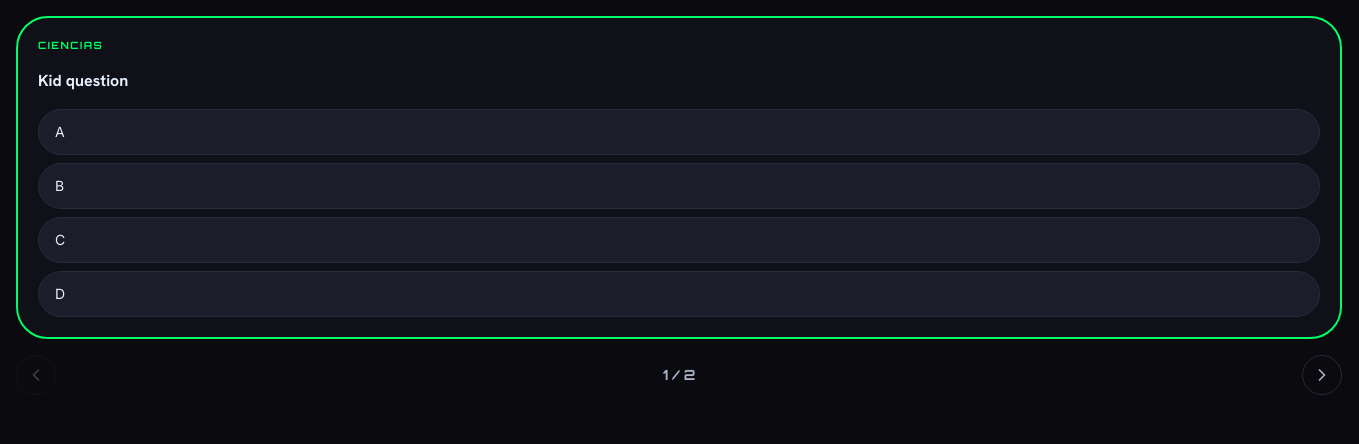
Test: QuestionCardBrowser — interactive practice (Repaso) › resets the pick when navigating to another card
Click the button with test id "card-option-2".
click(60, 240)  # box [38,217,1320,263]
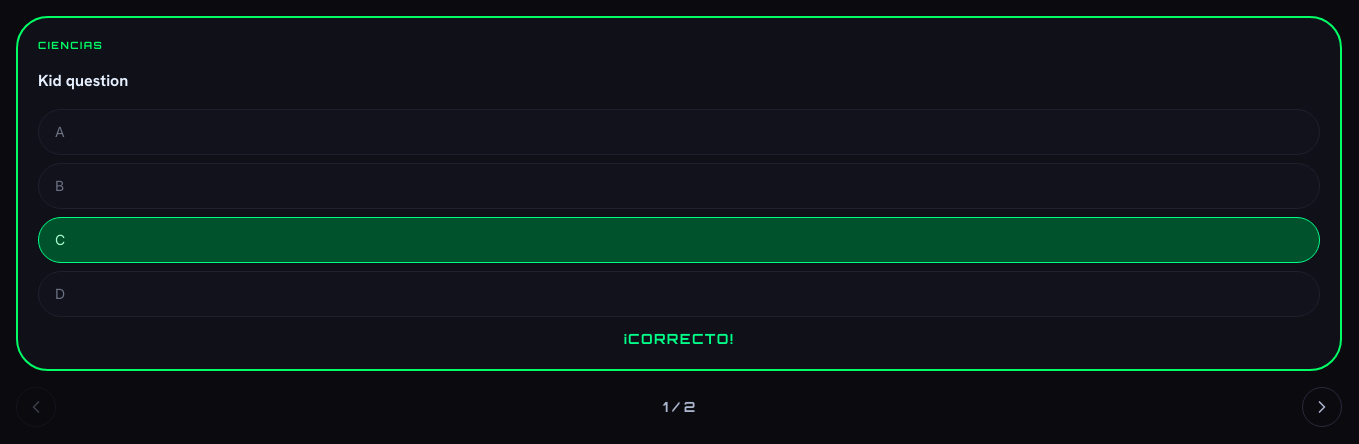
Expected: the text "¡Correcto!" is shown, [624,330,734,347]
Click the button with test id "card-next".
click(1322, 407)  # box [1302,387,1342,427]
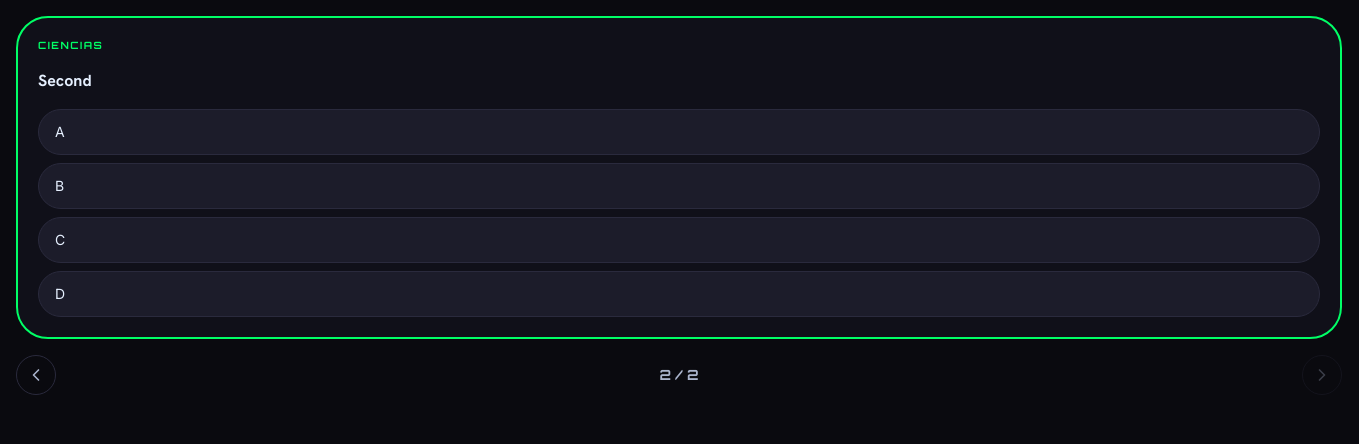
Expected: the text with test id "card-result" is gone
